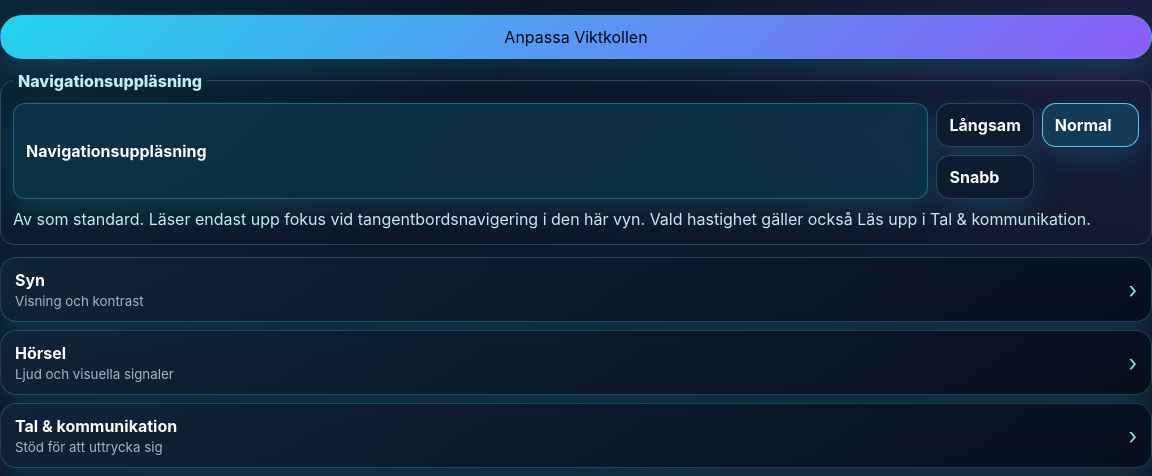
Test case: AccessibilityCommunication AAC symbol tiles (A11Y-7D) › pain works
Click the button "Tal & kommunikation Stöd för att uttrycka sig ›" at (96, 426), box [0,403,1151,468]
(page scrolled)
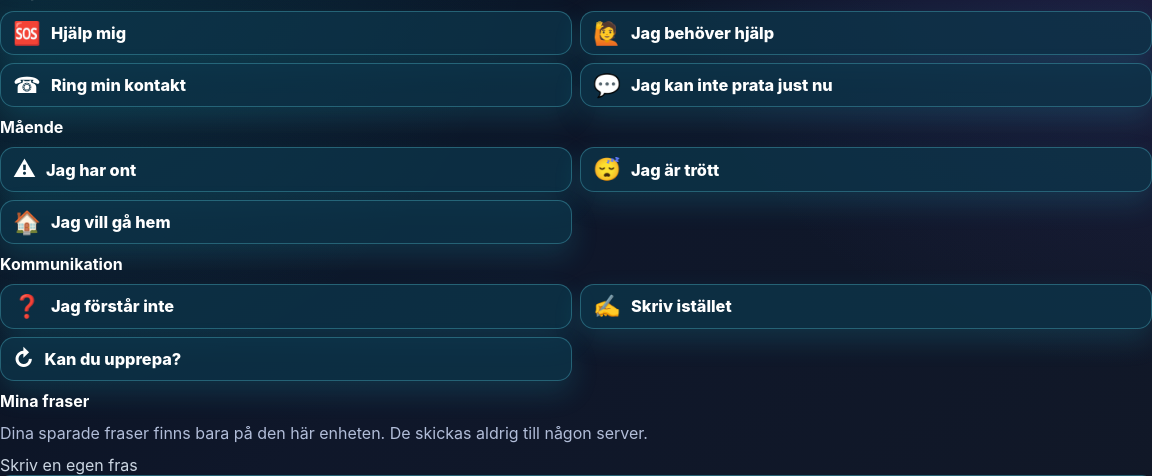
Click the button "⚠ Jag har ont" at (91, 170), box [0,148,572,192]
(page scrolled)
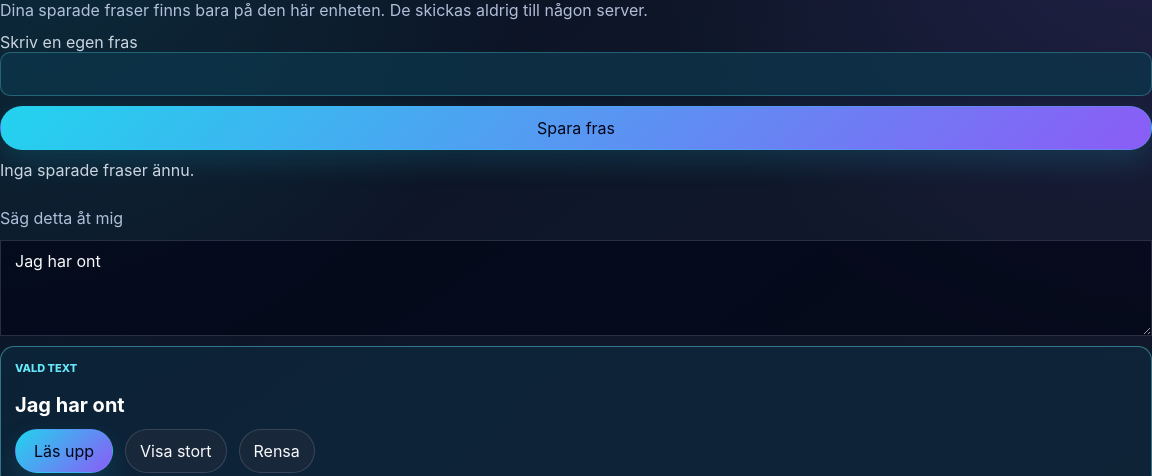
Expected: the text box labelled "Säg detta åt mig" holds "Jag har ont", [0,240,1151,336]
